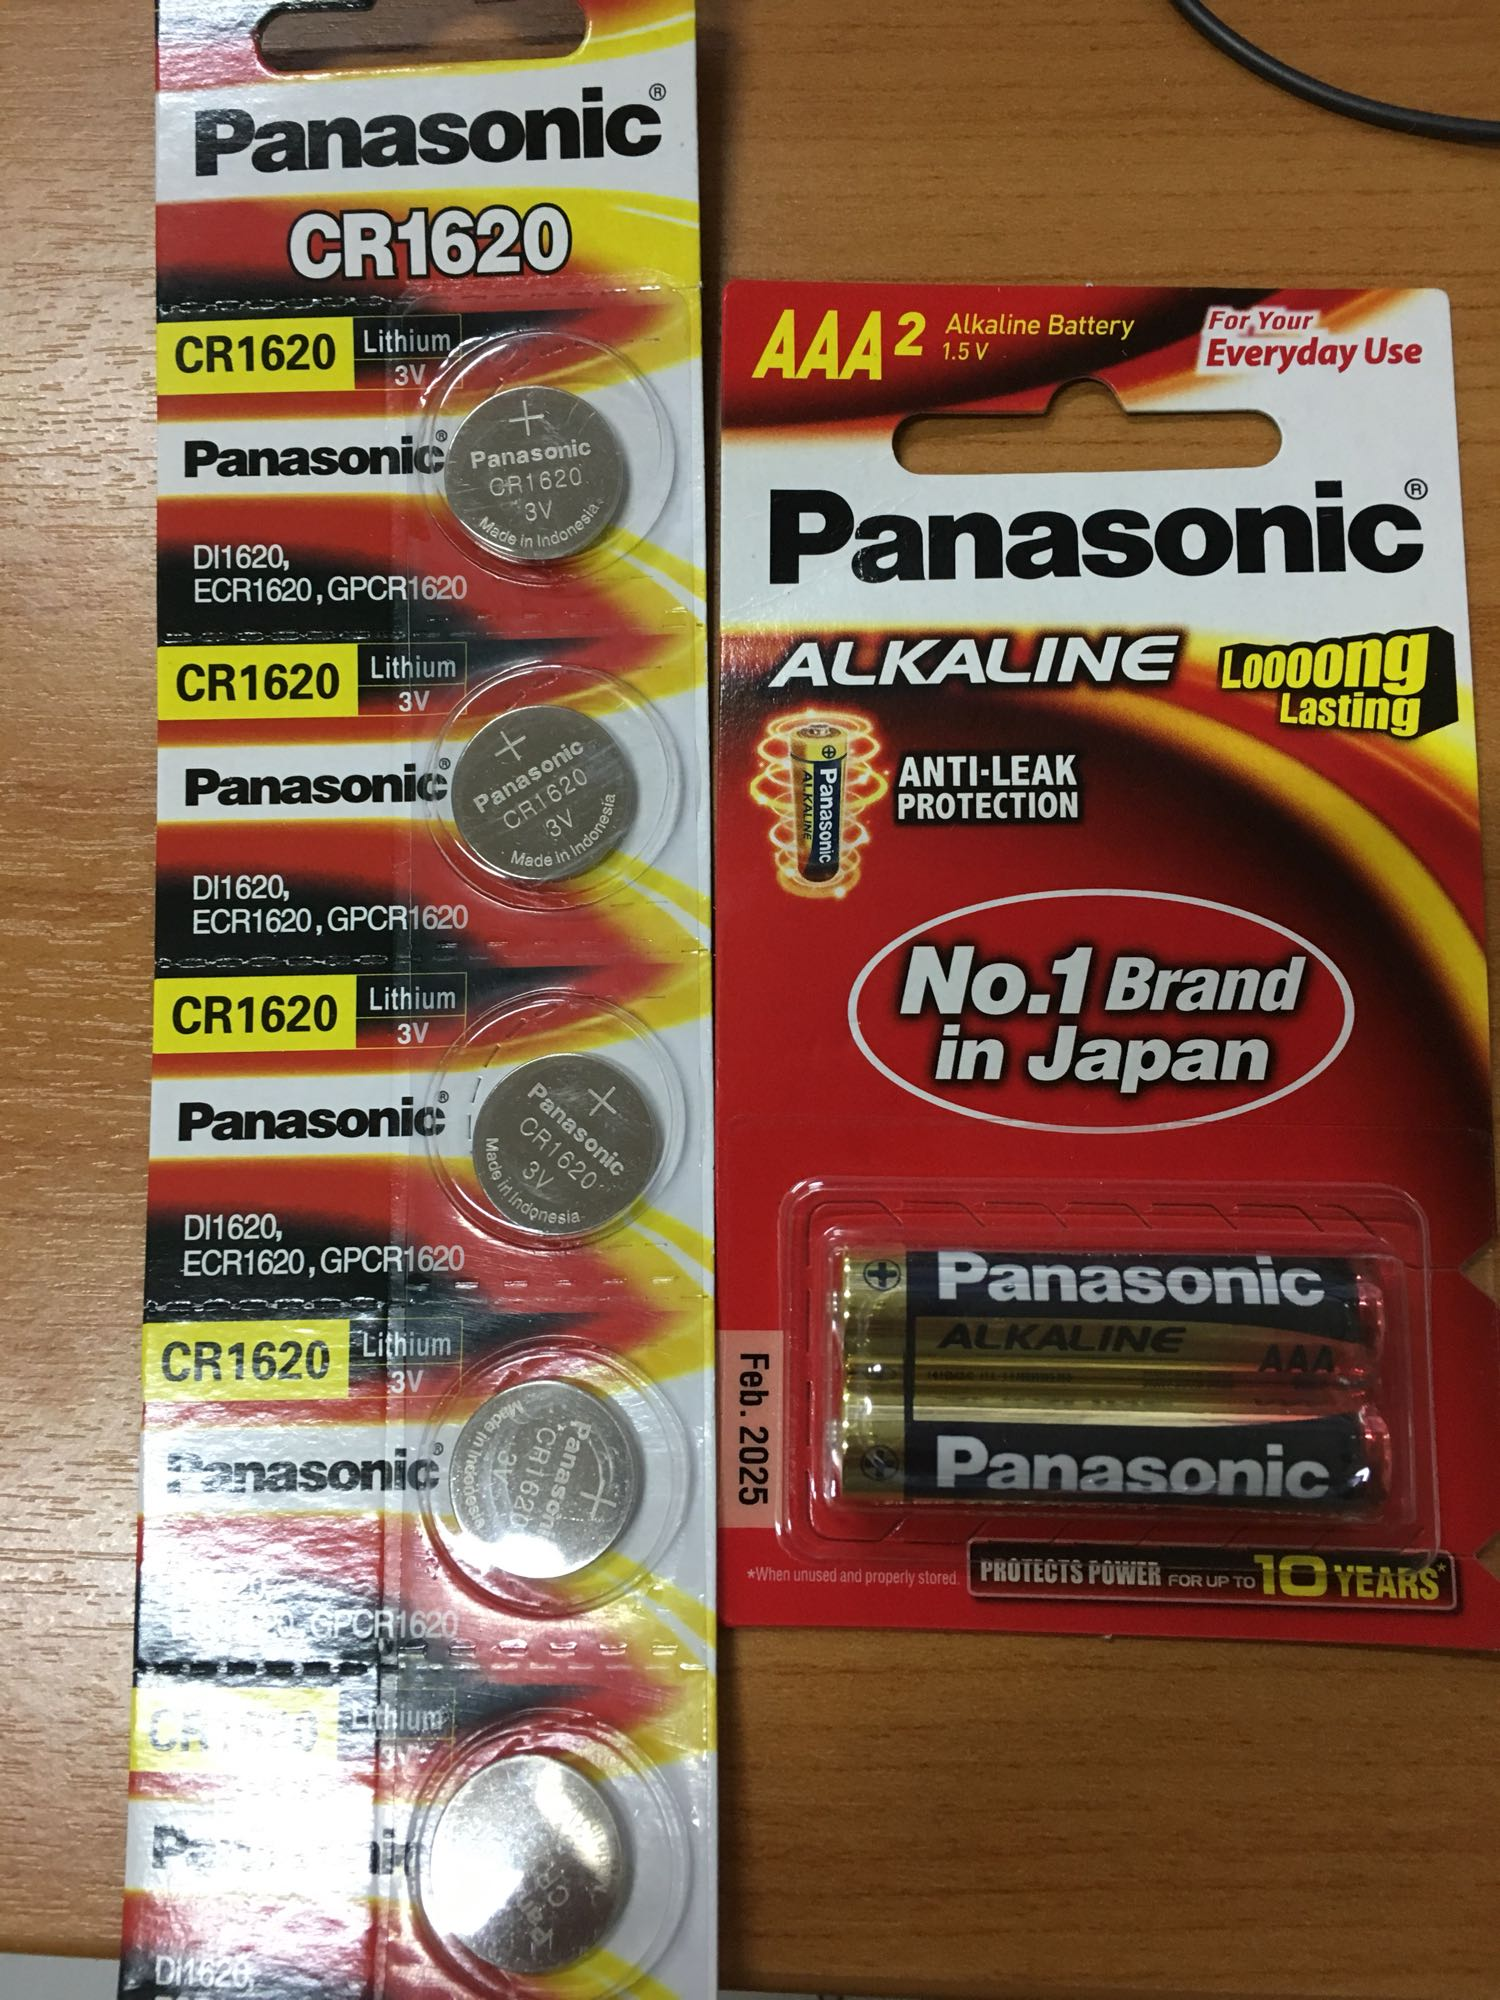Battery: (818, 1370, 1409, 1528), (826, 1250, 1394, 1376), (414, 1739, 646, 1983), (435, 1348, 651, 1597), (429, 370, 644, 584), (457, 1038, 671, 1247), (438, 699, 638, 891)
